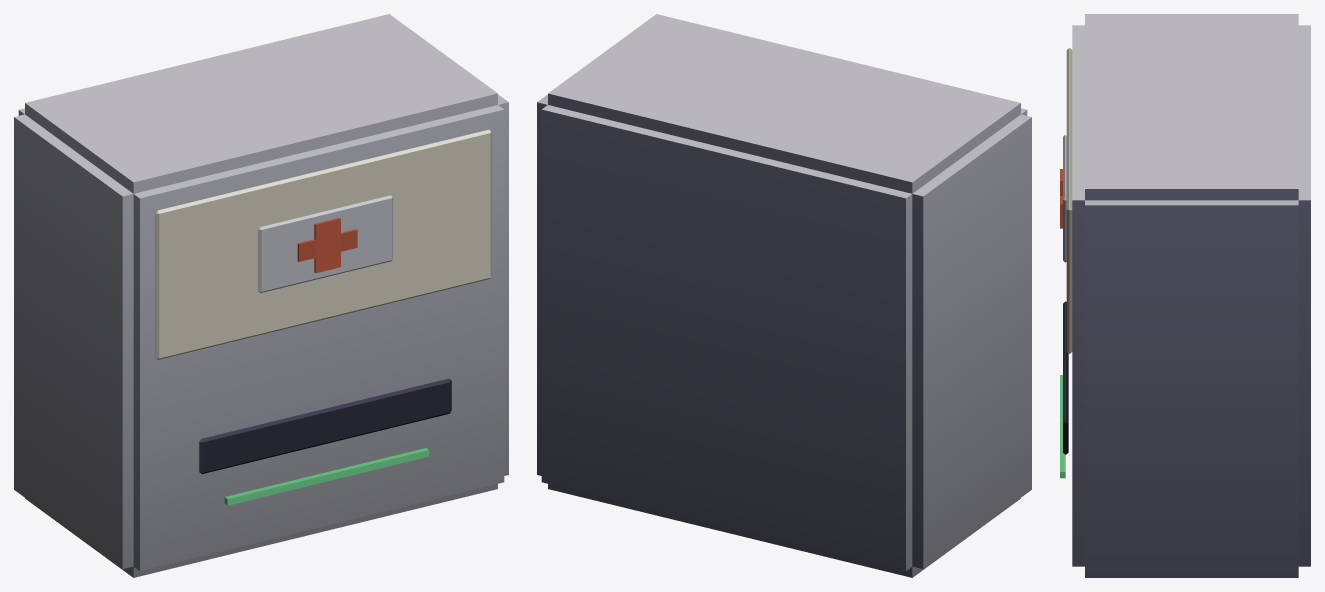
File: heal_cabinet.glb
The picture shows the model from 3 angles, left to right: view 1: azimuth 30°, elevation 25°; view 2: azimuth 150°, elevation 25°; view 3: azimuth 270°, elevation 25°; orthographic projection.
Visible parts, largest first — view 1: heal_cabinet; view 2: heal_cabinet; view 3: heal_cabinet.
Boxes of the visible parts, x1,y1,x2,y2 form: heal_cabinet: [14, 14, 508, 577]; heal_cabinet: [537, 14, 1031, 577]; heal_cabinet: [1060, 14, 1310, 577].
Bounding box in the file's own units: 0.92 × 0.9 × 0.526.
